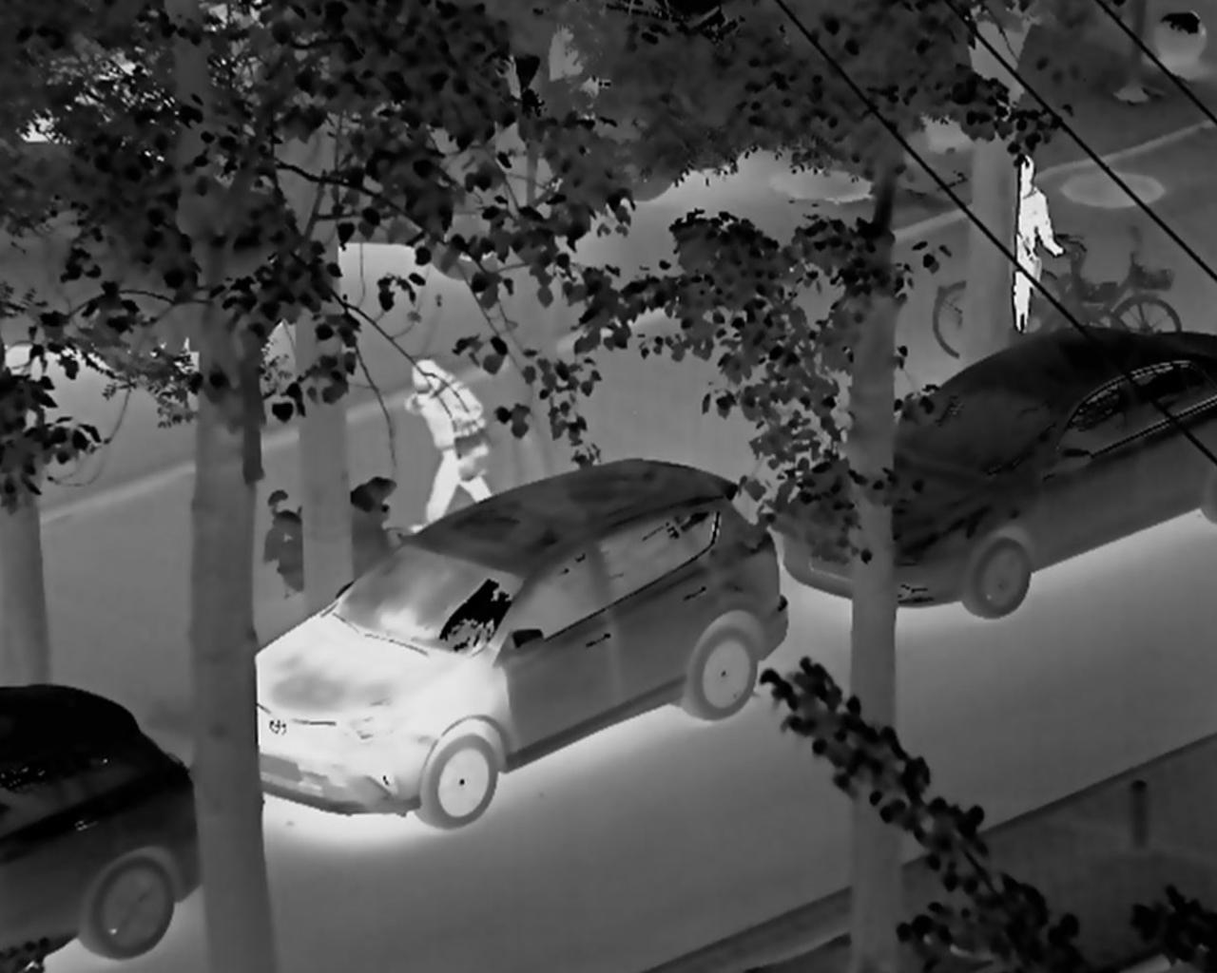person: (399, 347, 512, 544)
